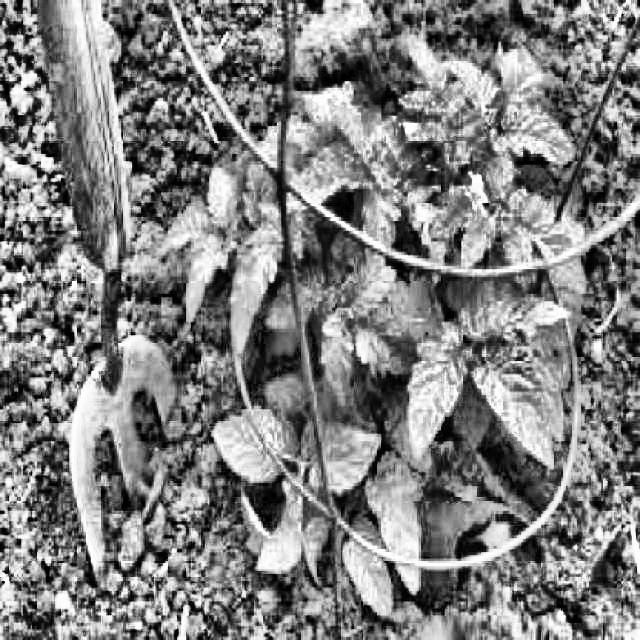plants: (155, 30, 612, 612)
